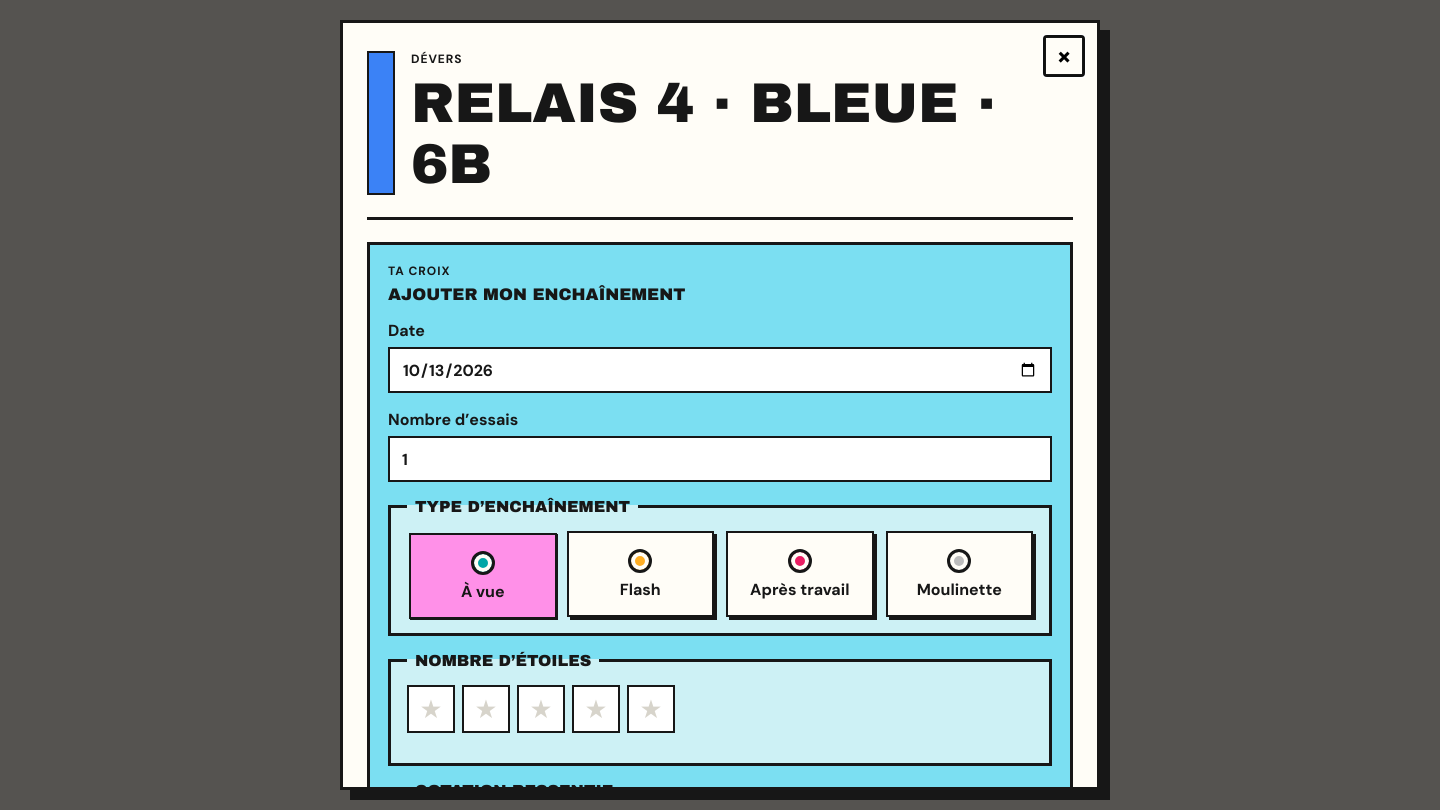
Test: RouteAscentsModal › démarre à un essai à vue puis retire à vue et flash au deuxième essai
expect the radio button labelled "À vue" is checked: met, box [409, 533, 556, 619]
expect the radio button labelled "Flash" is shown: met, box [566, 531, 714, 617]
Replace the text in the number field labelled "Nombre d’essais" with "2" at (720, 459), box [388, 436, 1052, 482]
(page scrolled)
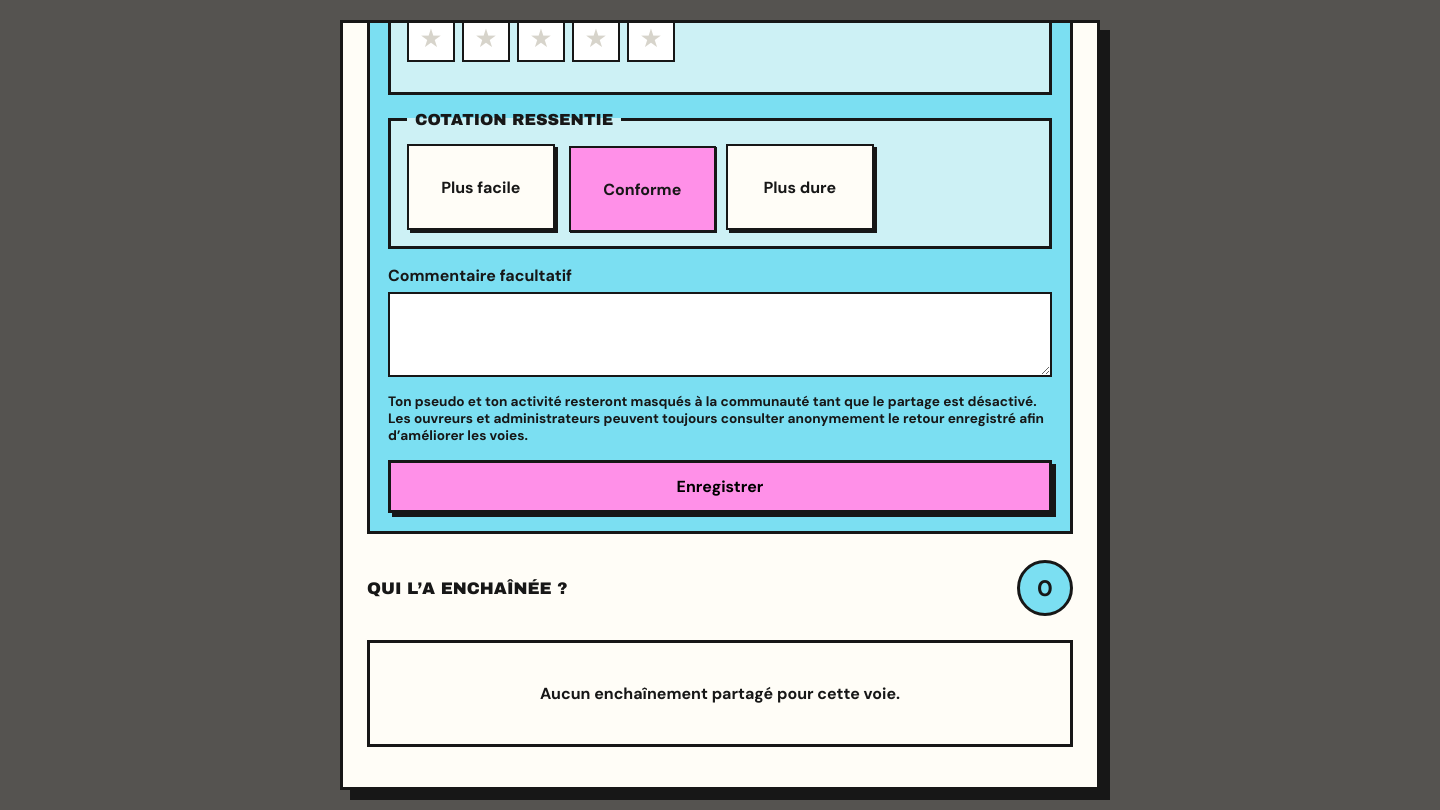
expect the text "À vue" is gone: met
expect the text "Flash" is gone: met
expect the text "Aucun enchaînement partagé pour cette voie." is shown: met, box [367, 640, 1073, 747]
